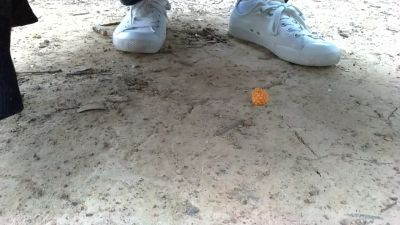eggs: (247, 84, 275, 109)
